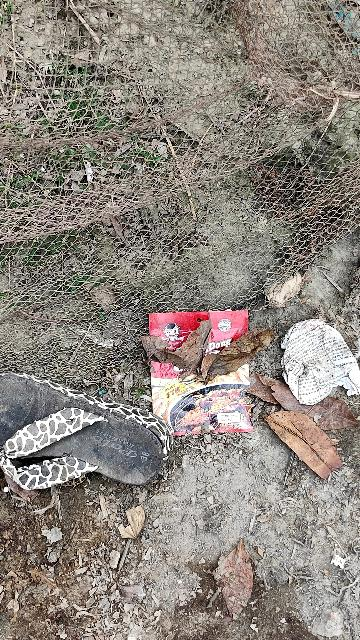packet: (147, 302, 249, 445)
